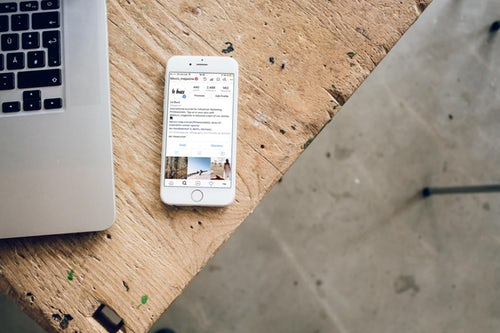phone: (161, 53, 240, 210)
